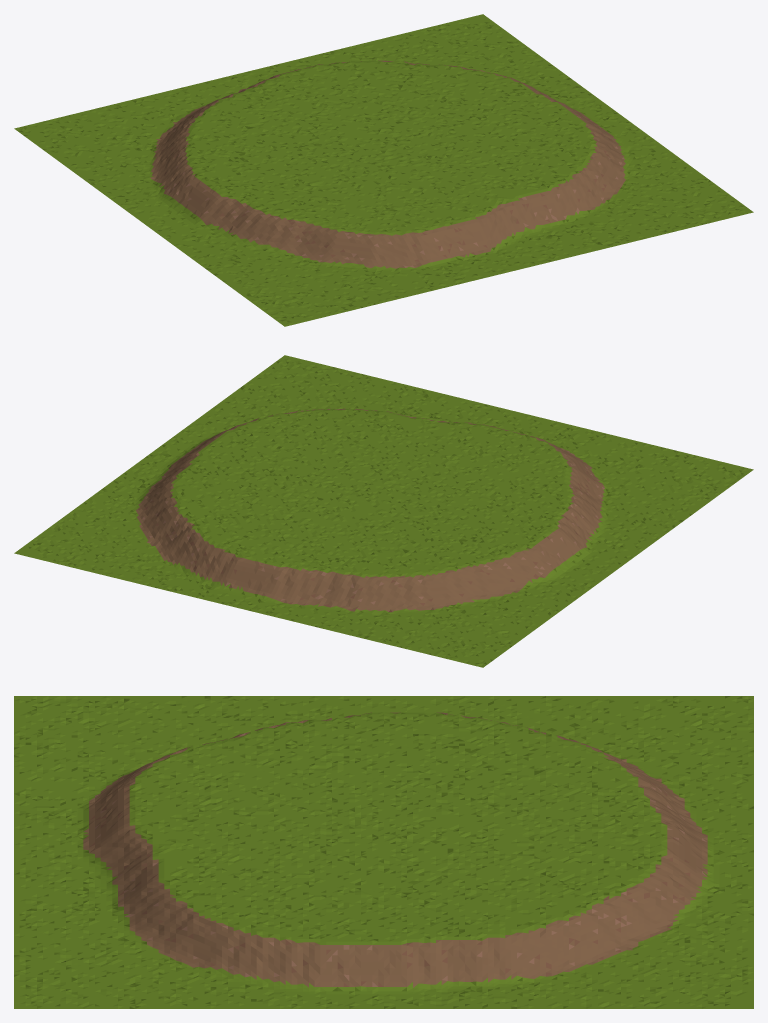
The model's file is mesh_terrain_medium_02.fbx.
3 renders of one model, top to bottom at view 1: azimuth 30°, elevation 25°; view 2: azimuth 150°, elevation 25°; view 3: azimuth 270°, elevation 25°, orthographic. The views are drawn at different scales.
Parts seen in each view (by area): view 1: mesh_terrain_medium_02; view 2: mesh_terrain_medium_02; view 3: mesh_terrain_medium_02.
Part boxes in pixels (x1,y1,x2,y2): mesh_terrain_medium_02: [14, 14, 753, 326]; mesh_terrain_medium_02: [14, 355, 753, 667]; mesh_terrain_medium_02: [14, 696, 753, 1008].
Size of the model in its own units: 50 by 2.2 by 50.
